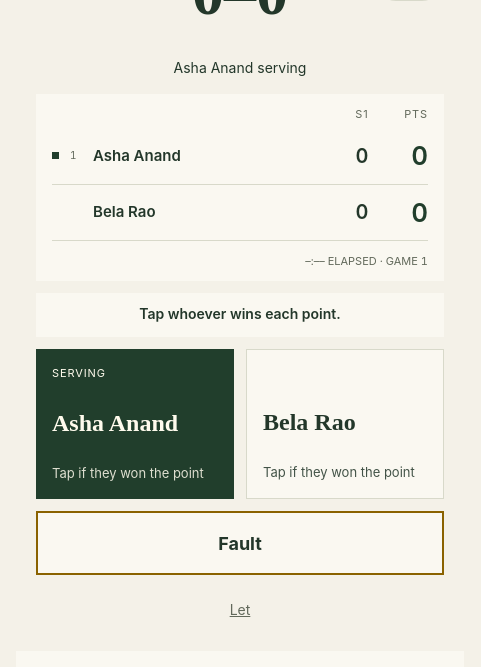
Test case: Scorer › offers the saved score when another device changed the match
This screenshot has width=481, height=667.
(page scrolled)
Click the button with aria-label "Point — Asha Anand": point(135, 424) [36,349,234,499]
(page scrolled)
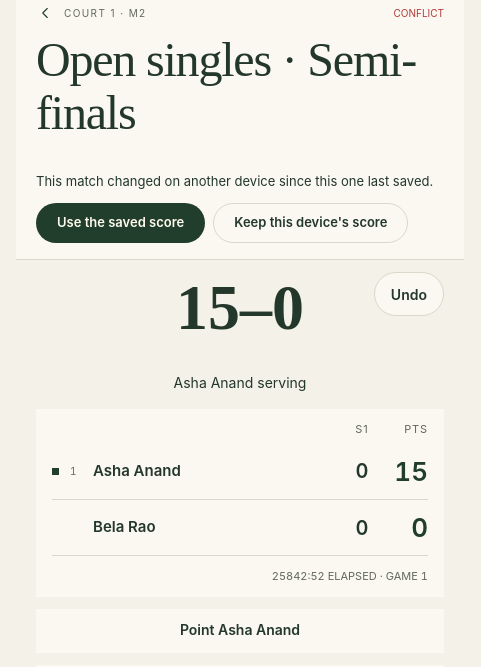
Expected: the 2nd message shows "changed on another device", [36,173,433,189]
Click the button "Use the saved score": point(121, 223) [36,203,205,243]
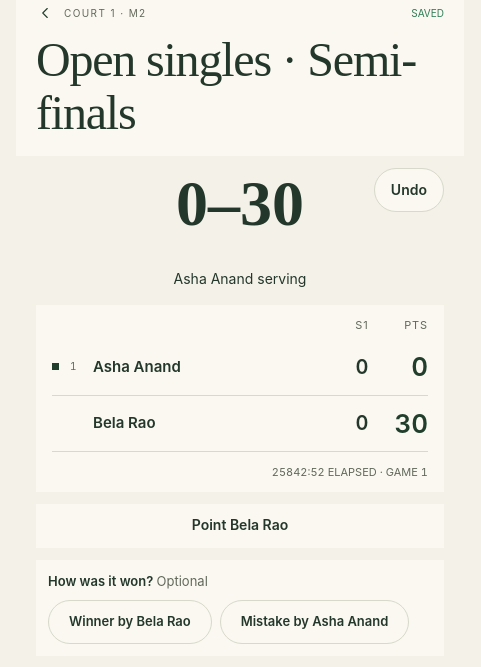
Expected: the row "Bela Rao 0 30" is shown, [52,395,428,451]
Expected: the message reads "Saved", [411,6,444,18]
